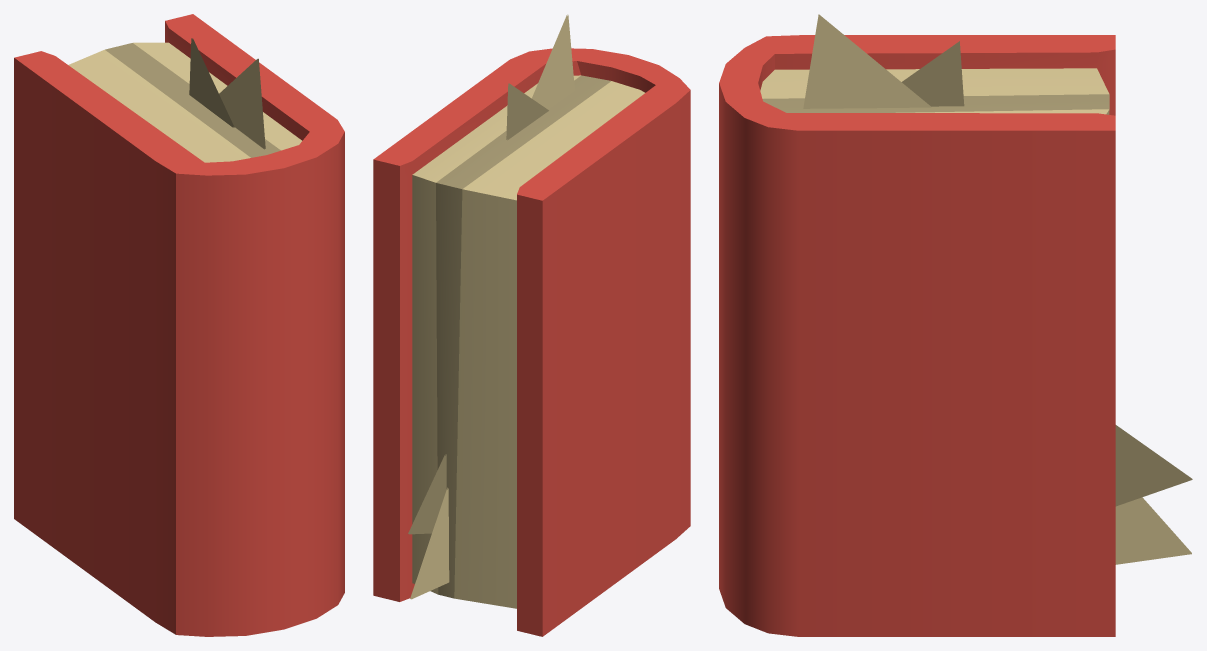
File: book3.fbx
3 views of the same model, side by side, from view 1: azimuth 30°, elevation 25°; view 2: azimuth 150°, elevation 25°; view 3: azimuth 270°, elevation 25° (orthographic). The views are drawn at different scales.
Parts seen in each view (by area): view 1: Cube.055; view 2: Cube.055; view 3: Cube.055.
Part boxes in pixels (x1,y1,x2,y2): Cube.055: (14, 14, 344, 636); Cube.055: (373, 14, 690, 636); Cube.055: (719, 14, 1192, 636).
Size of the model in its own units: 28.71 by 81.73 by 59.97.
